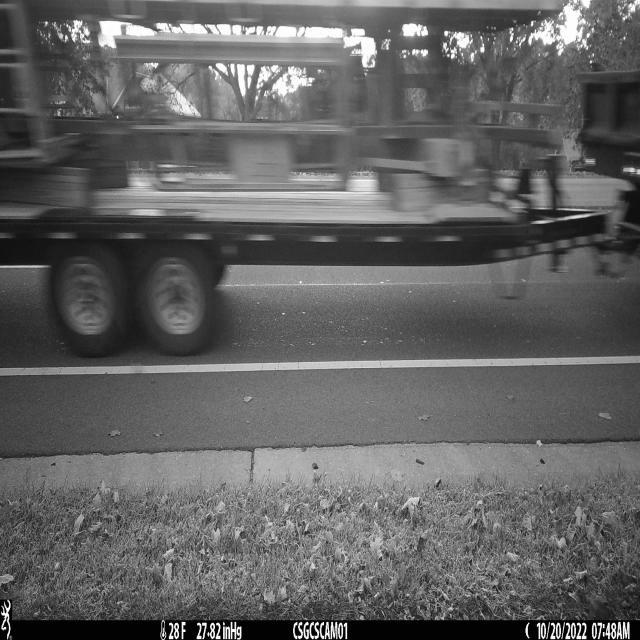Trailer: (0, 177, 615, 358)
